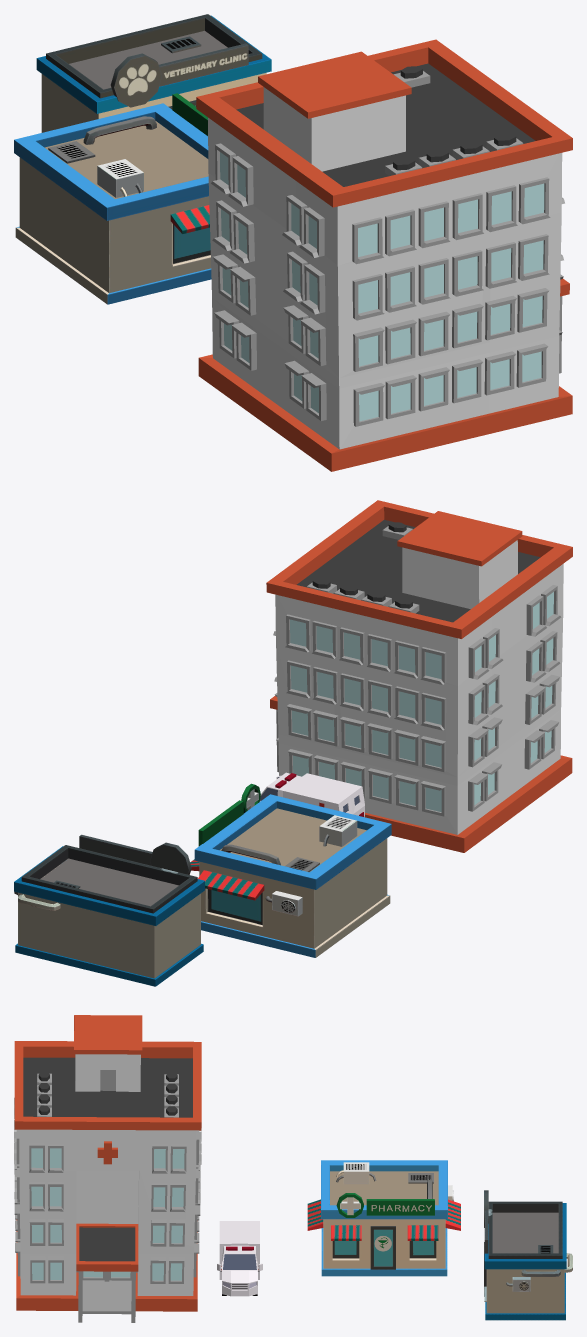
The model's file is Hospital.fbx.
3 renders of one model, top to bottom at view 1: azimuth 30°, elevation 25°; view 2: azimuth 150°, elevation 25°; view 3: azimuth 270°, elevation 25°, orthographic. The views are drawn at different scales.
Visible parts, largest first — view 1: Hospital_Cube.002, Object005, Object002; view 2: Hospital_Cube.002, Object005, Object002, Ambulance; view 3: Hospital_Cube.002, Object005, Object002, Ambulance.
Boxes of the visible parts, x1=… form: Hospital_Cube.002: x1=196, y1=39, x2=572, y2=471; Object005: x1=14, y1=93, x2=211, y2=304; Object002: x1=36, y1=14, x2=271, y2=132; Hospital_Cube.002: x1=266, y1=500, x2=572, y2=852; Object005: x1=190, y1=783, x2=391, y2=957; Object002: x1=14, y1=834, x2=204, y2=986; Ambulance: x1=259, y1=772, x2=364, y2=817; Hospital_Cube.002: x1=14, y1=1015, x2=201, y2=1322; Object005: x1=307, y1=1160, x2=460, y2=1276; Object002: x1=484, y1=1190, x2=572, y2=1320; Ambulance: x1=217, y1=1221, x2=262, y2=1296.
Bounding box in the file's own units: 833 × 889 × 2023.
Materials: 12 (3 with a texture image).
